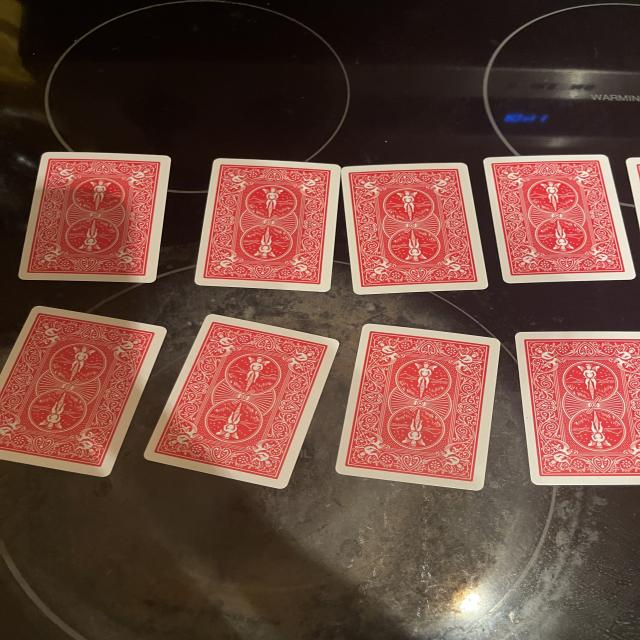card back: (145, 315, 338, 489), (0, 306, 167, 476), (335, 324, 500, 490), (18, 152, 170, 282), (483, 155, 635, 284), (342, 162, 488, 295), (515, 331, 640, 485), (195, 159, 340, 291)
